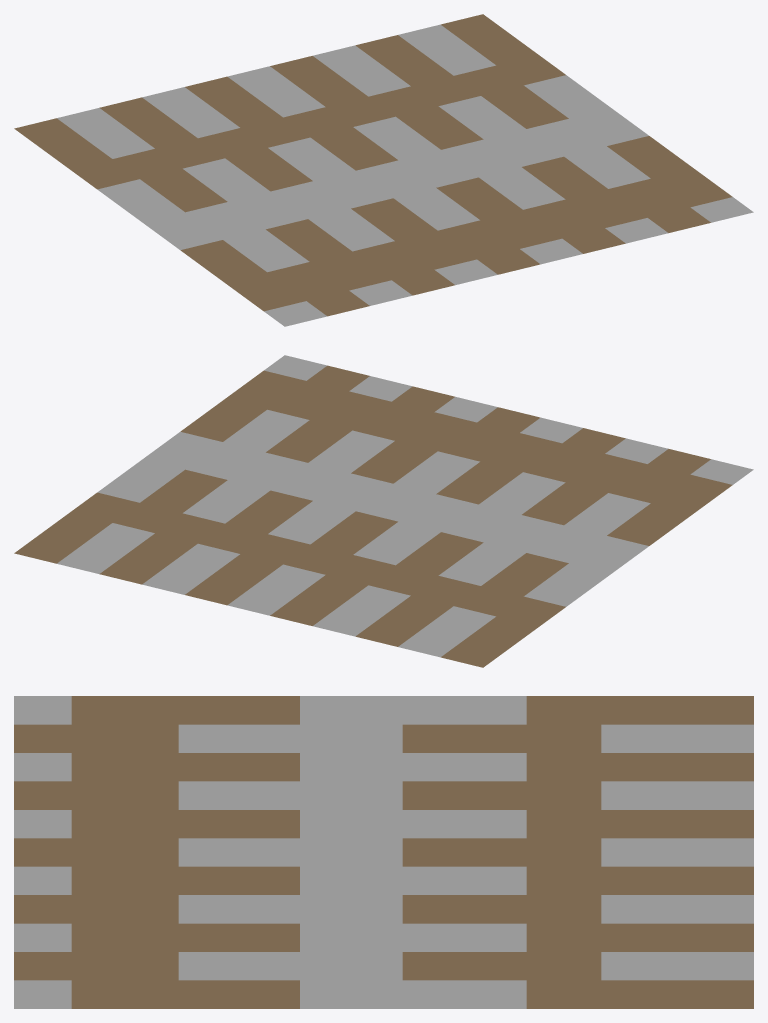
Rendered from gh_floor.fbx.
3 renders of one model, top to bottom at view 1: azimuth 30°, elevation 25°; view 2: azimuth 150°, elevation 25°; view 3: azimuth 270°, elevation 25°, orthographic. The views are drawn at different scales.
Parts seen in each view (by area): view 1: GH_FLOOR; view 2: GH_FLOOR; view 3: GH_FLOOR.
Part boxes in pixels (x1,y1,x2,y2): GH_FLOOR: [14, 14, 753, 326]; GH_FLOOR: [14, 355, 753, 667]; GH_FLOOR: [14, 696, 753, 1008].
Size of the model in its own units: 240 by 0 by 240.
